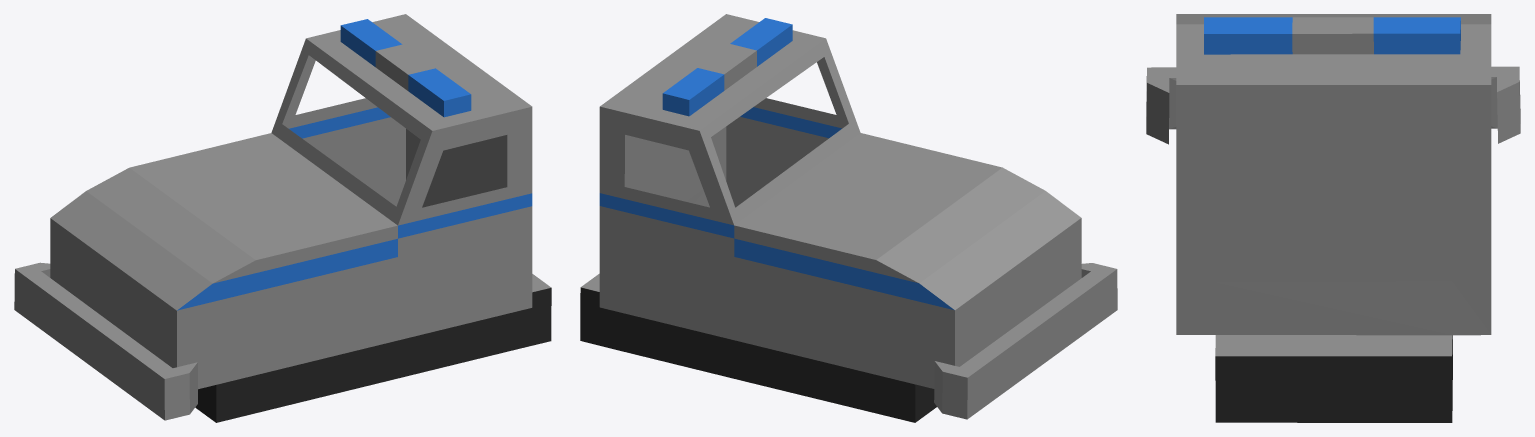
Rendered from aCabine.FBX.
The picture shows the model from 3 angles, left to right: view 1: azimuth 30°, elevation 25°; view 2: azimuth 150°, elevation 25°; view 3: azimuth 270°, elevation 25°; orthographic projection. The views are drawn at different scales.
Visible parts, largest first — view 1: aCabine; view 2: aCabine; view 3: aCabine.
Boxes of the visible parts, x1,y1,x2,y2 form: aCabine: (14, 14, 551, 422); aCabine: (580, 14, 1117, 422); aCabine: (1146, 14, 1520, 422).
Bounding box in the file's own units: 516 × 322 × 324.
